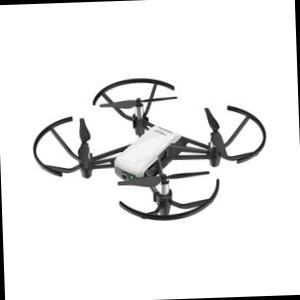drone: (31, 73, 278, 225)
